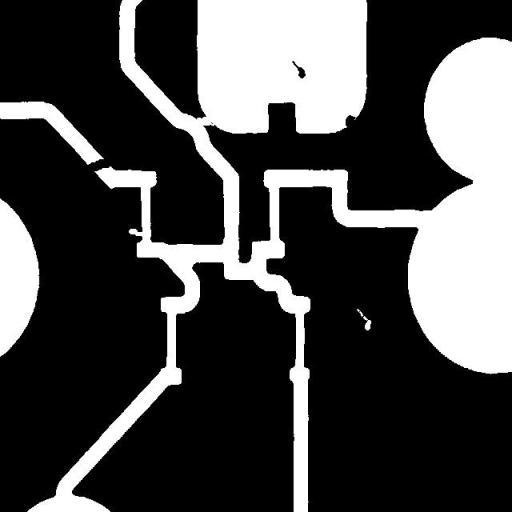copper: (284, 52, 313, 86)
mousebite: (121, 221, 152, 244)
open: (188, 108, 222, 134)
pin-hole: (349, 300, 378, 338)
short: (78, 151, 118, 180)
spur: (338, 107, 363, 135)
